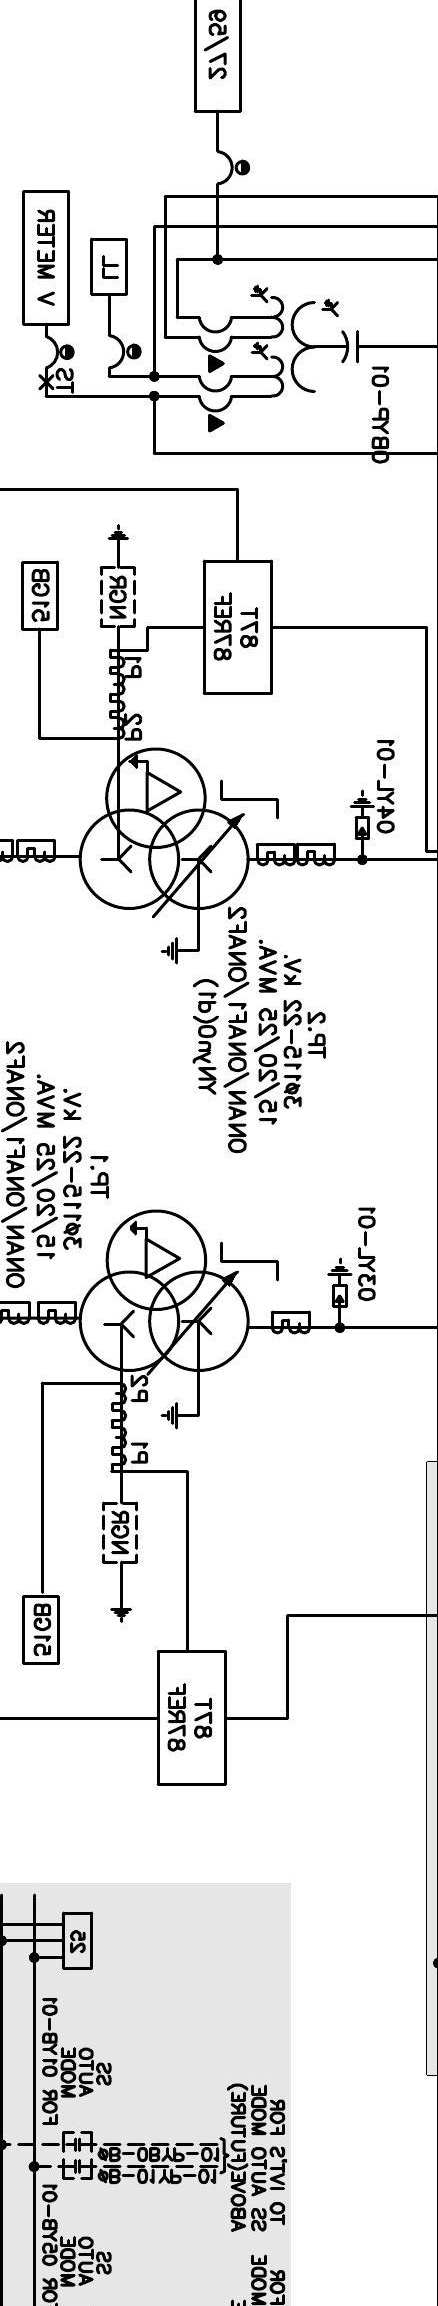11522_tx_ynyn0d1: (78, 1207, 251, 1374), (78, 747, 251, 912)
115_cvt_3p: (195, 284, 360, 434)
115_la: (348, 790, 376, 841), (326, 1257, 353, 1309)
LL: (88, 237, 129, 297)
NGR_future: (101, 1502, 138, 1624), (98, 524, 137, 629)
v_m_digital: (21, 190, 71, 328)
